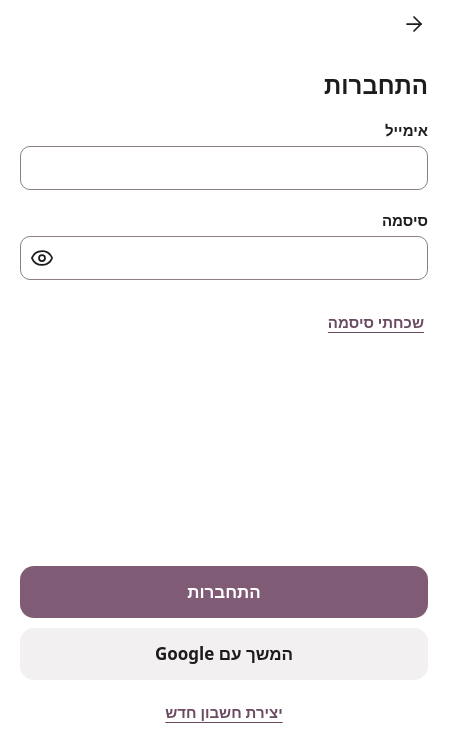
Test: [F1.5 c5][ERR-001] wrong credentials: one text, identical DOM, nothing leaks › [c5] a second wrong attempt still shows exactly one message and keeps the email
expect the heading "התחברות" is shown: met, box [324,68,428,101]
Type "dana.cohen@example.com" into the field labelled "אימייל" at (224, 168), box [20,146,428,190]
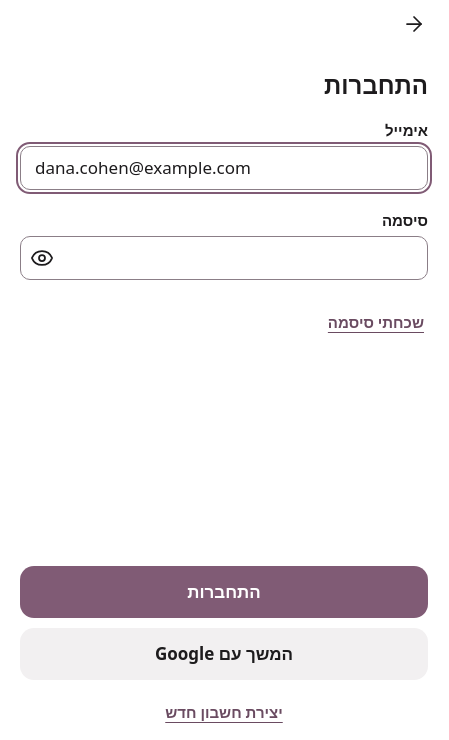
Type "correct horse 42 zq" into the password field labelled "סיסמה" at (224, 258), box [20,236,428,280]
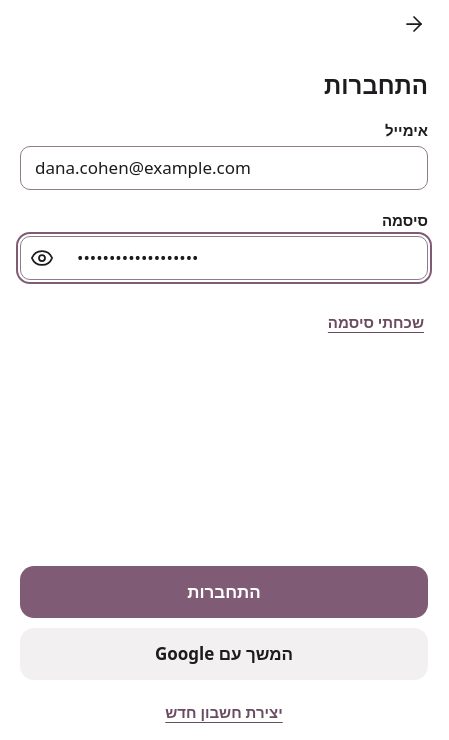
Click the button "התחברות" at (224, 592), box [20,566,428,618]
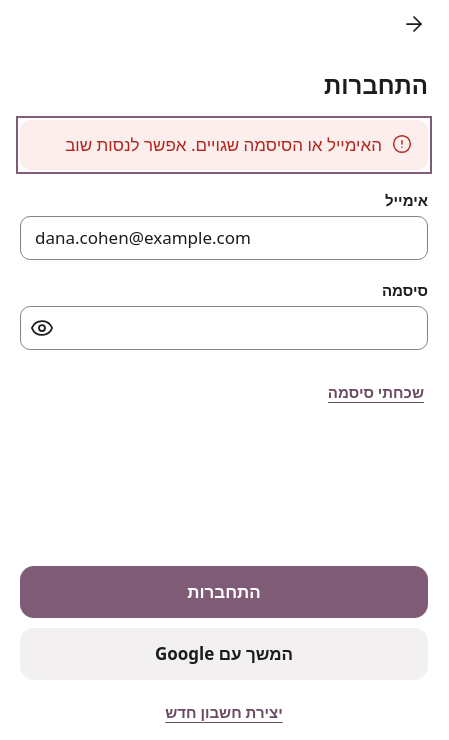
Type "another wrong one" into the password field labelled "סיסמה" at (224, 328), box [20,306,428,350]
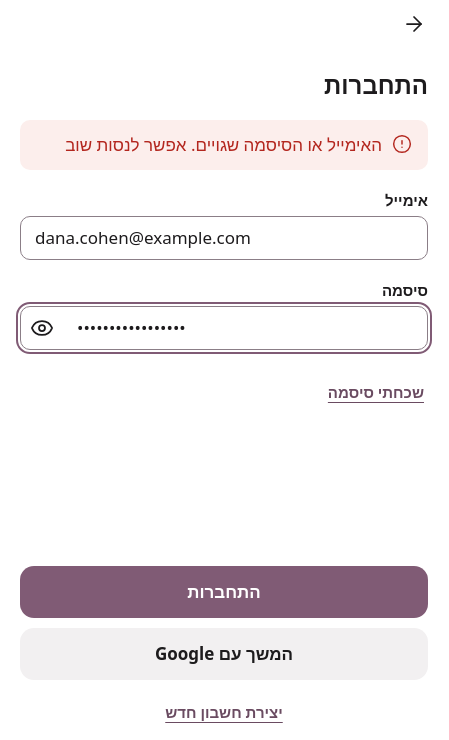
Click the button "התחברות" at (224, 592), box [20,566,428,618]
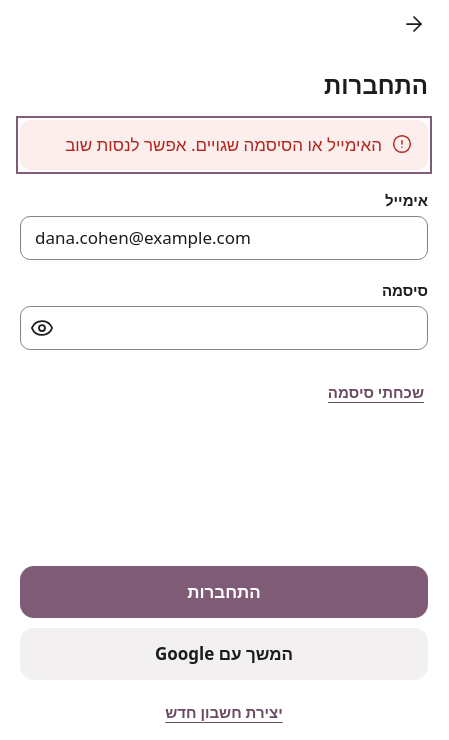
expect the number of messages is 1: met, box [20,120,428,170]
expect the password field labelled "סיסמה" is empty: met, box [20,306,428,350]
